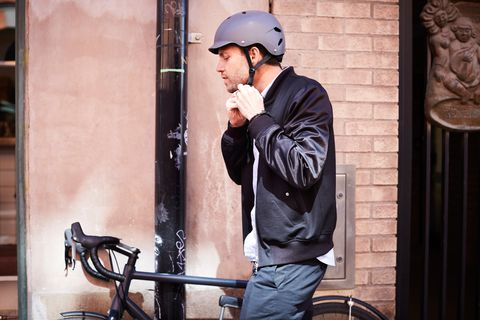helmet: (209, 7, 286, 60)
